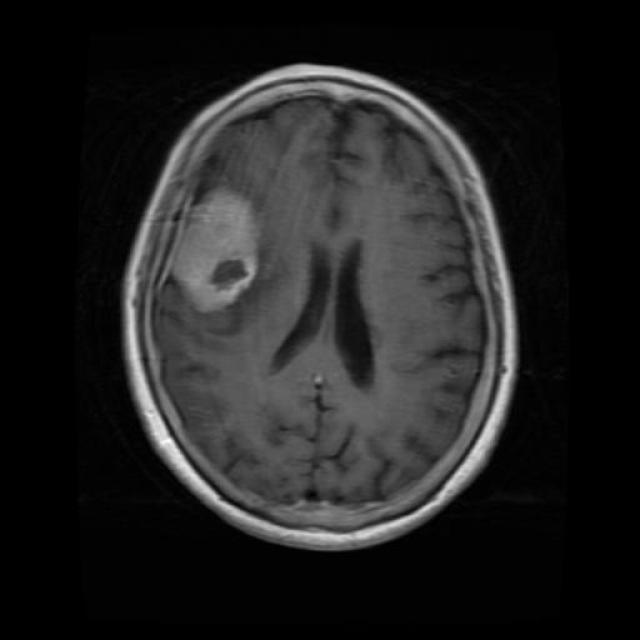Brain-Tumor: (152, 177, 276, 319)
